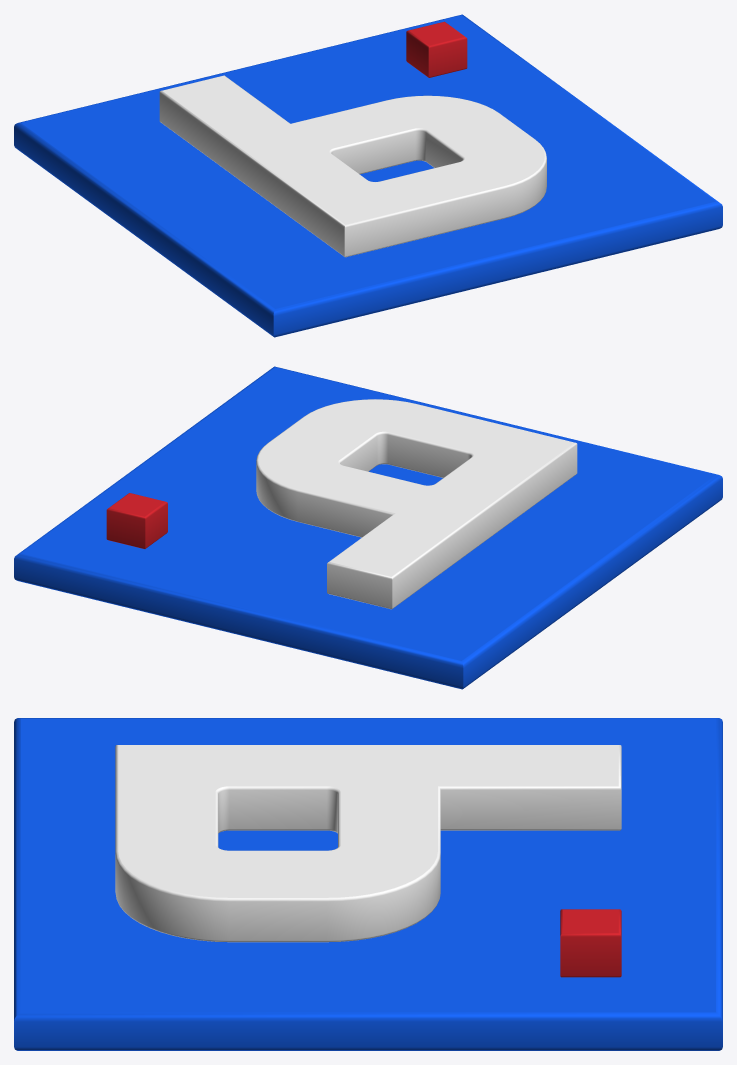
Rendered from d1-mark.glb.
3 views of the same model, one above another, from view 1: azimuth 30°, elevation 25°; view 2: azimuth 150°, elevation 25°; view 3: azimuth 270°, elevation 25° (orthographic). The views are drawn at different scales.
Parts seen in each view (by area): view 1: plate, g, g.001; view 2: plate, g, g.001; view 3: plate, g, g.001.
Part boxes in pixels (<box>): plate: <box>14,14,722,337</box>; g: <box>159,75,546,257</box>; g.001: <box>406,21,467,77</box>; plate: <box>14,366,722,689</box>; g: <box>256,399,577,609</box>; g.001: <box>106,493,167,548</box>; plate: <box>14,718,722,1050</box>; g: <box>115,745,621,942</box>; g.001: <box>560,909,621,977</box>.
Size of the model in its own units: 2.04 by 0.26 by 2.04.
